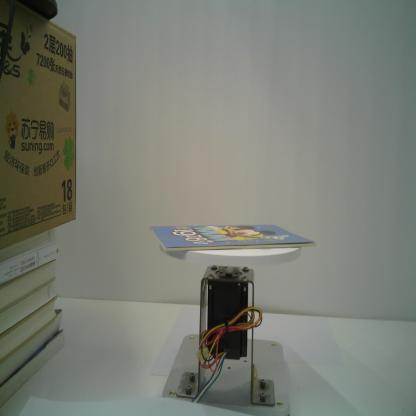Stationery: (148, 223, 316, 253)
